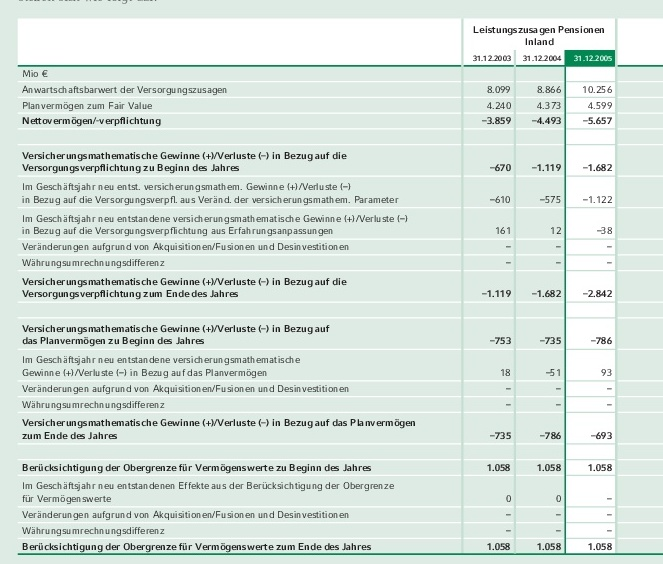table: (0, 0, 663, 564)
